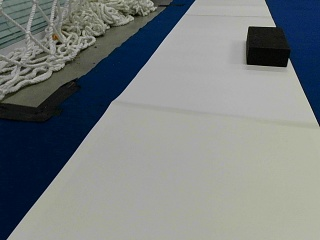block: (246, 26, 289, 67)
